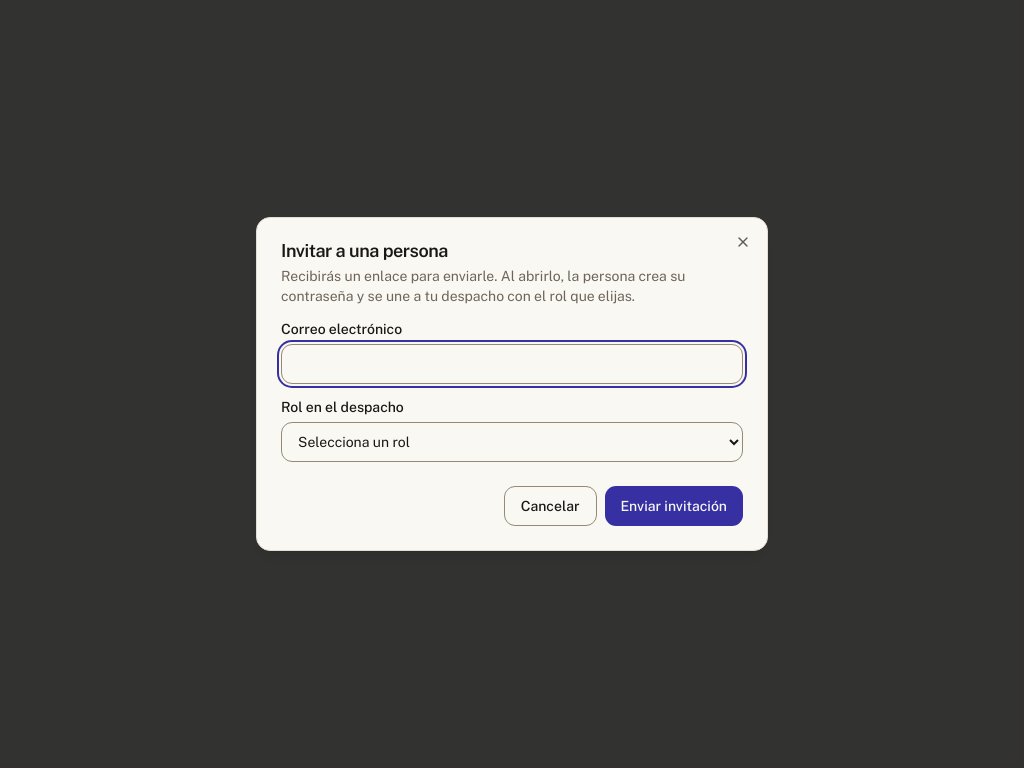
InviteUserDialog › renders a refusal through the classifier, not as a raw code
This screenshot has width=1024, height=768.
Type "lucia@despachoalfa.mx" into the field labelled "Correo electrónico" at x=512, y=364, box [281,344,743,384]
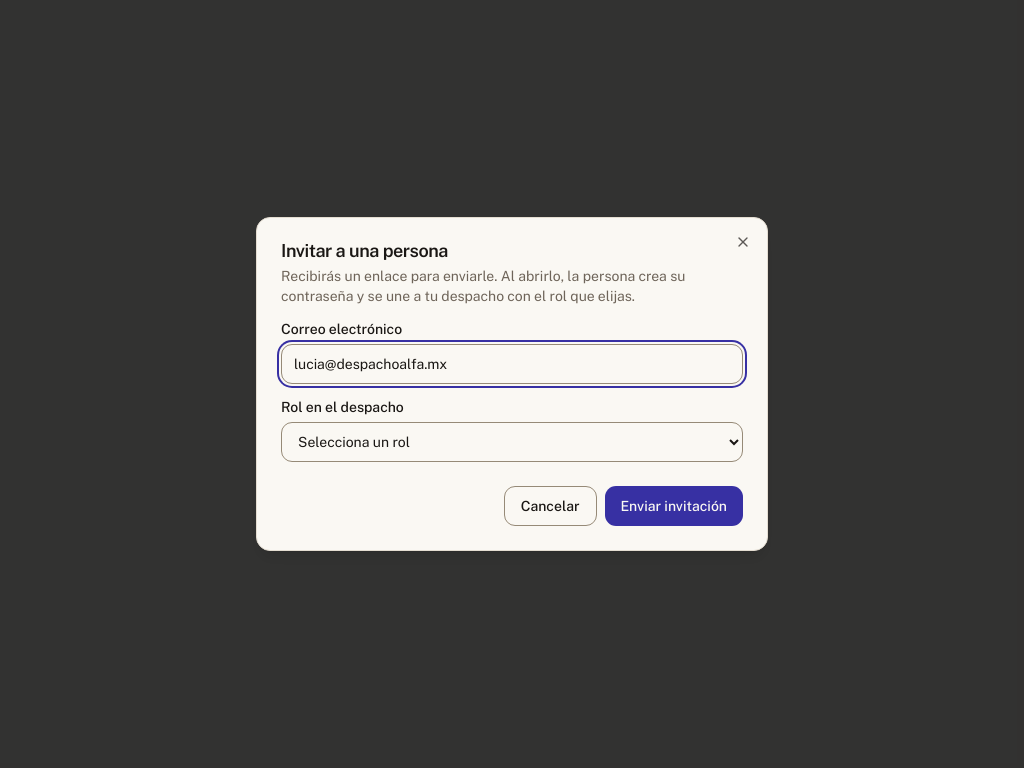
Select "Abogado asociado" in the dropdown labelled "Rol en el despacho" at x=512, y=442, box [281,422,743,462]
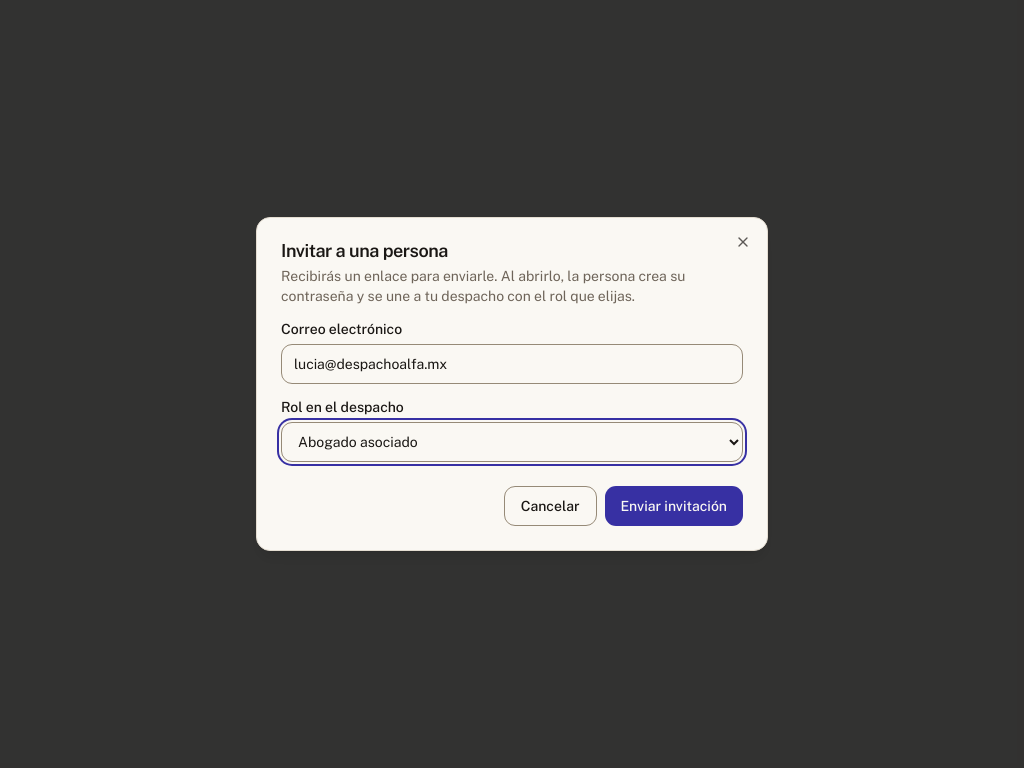
Click the button "Enviar invitación" at x=674, y=506, box [604,486,743,526]
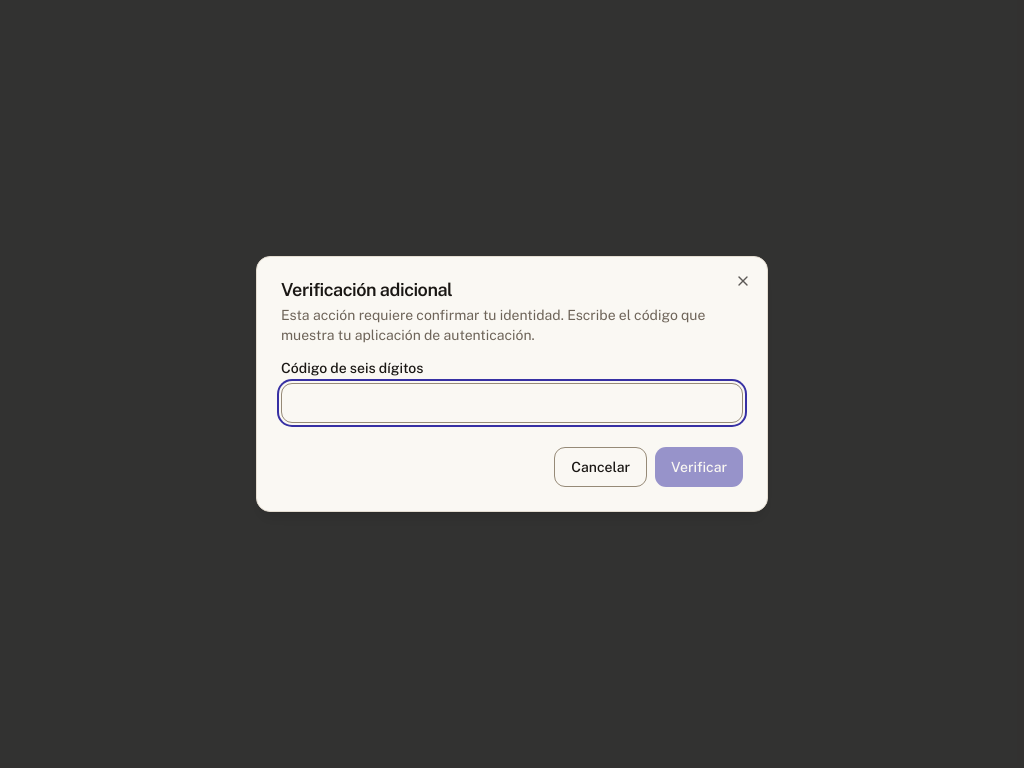
Type "123456" into the field labelled "Código de seis dígitos" at x=512, y=403, box [281,383,743,423]
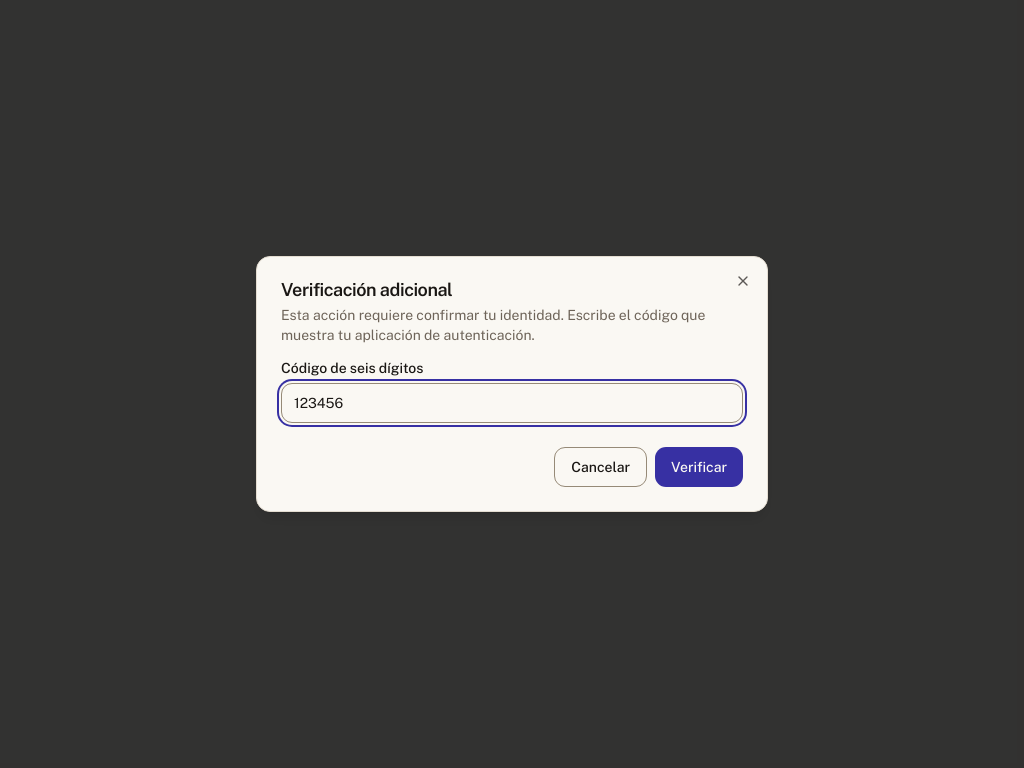
Click the button "Verificar" at x=699, y=467, box [655,447,743,487]
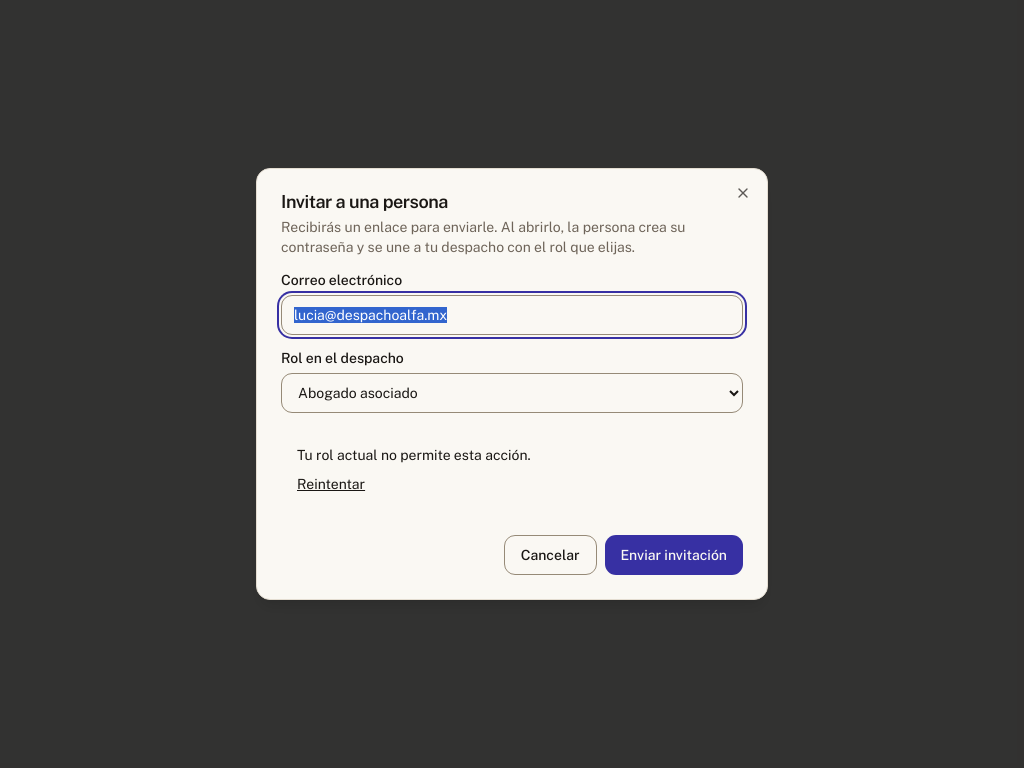
Check: the text with test id "error-state-copy" reads "Tu rol actual no permite esta acción.", box [297,447,531,463]
